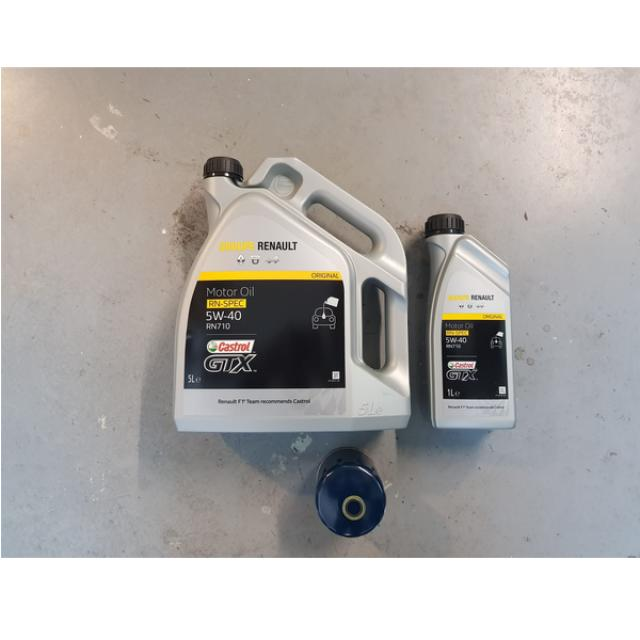motor_oil: (169, 143, 414, 435), (423, 202, 522, 436)
